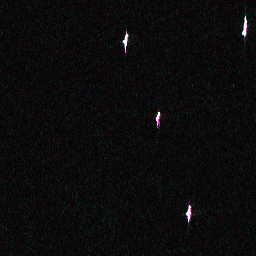ship: (240, 16, 249, 37), (120, 31, 131, 47), (184, 204, 193, 219), (154, 110, 162, 124)
